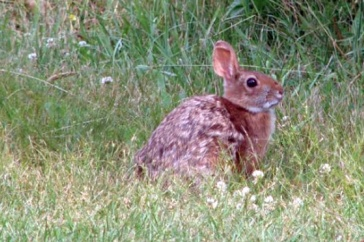bunny: (137, 36, 285, 195)
